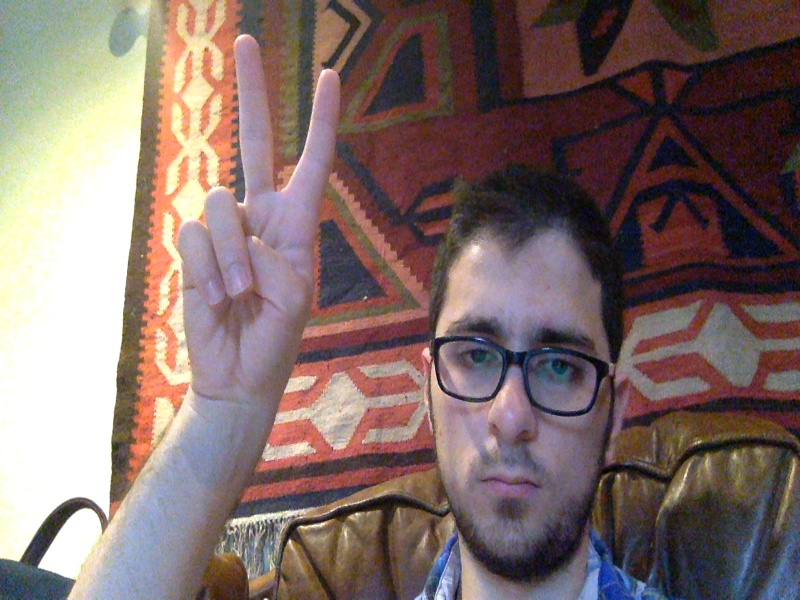2-hand: (178, 33, 339, 403)
